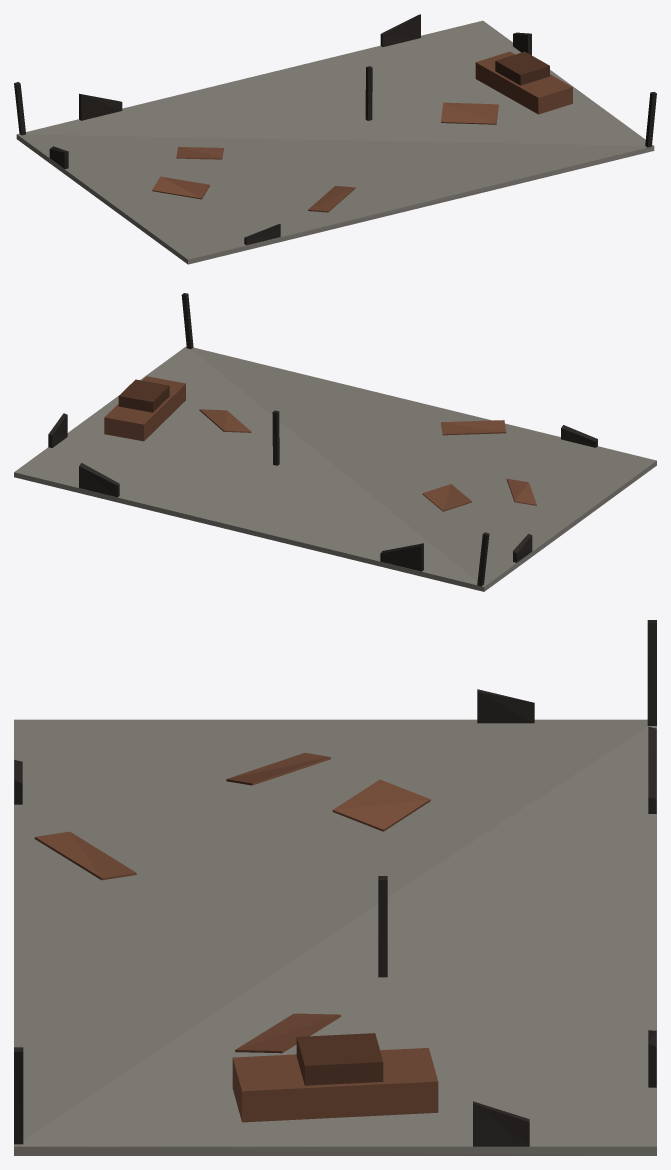
Rendered from ruin_22x14_lod1.glb.
The picture shows the model from 3 angles, top to bottom: view 1: azimuth 30°, elevation 25°; view 2: azimuth 150°, elevation 25°; view 3: azimuth 270°, elevation 25°; orthographic projection. The views are drawn at different scales.
Visible parts, largest first — view 1: ruin; view 2: ruin; view 3: ruin.
Part boxes in pixels (x1,y1,x2,y2): ruin: (14, 14, 656, 264); ruin: (14, 293, 656, 591); ruin: (14, 620, 656, 1155).
Size of the model in its own units: 22.25 by 2.57 by 14.
